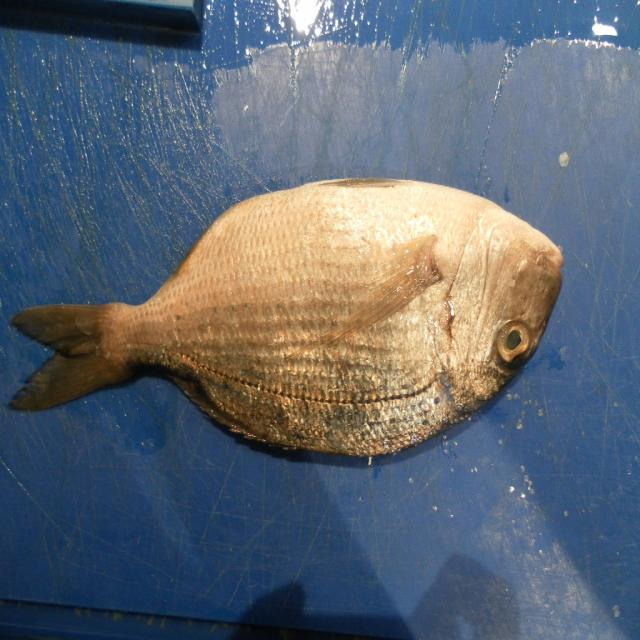Red-Sea-Bream-mercan-: (8, 178, 564, 462)
